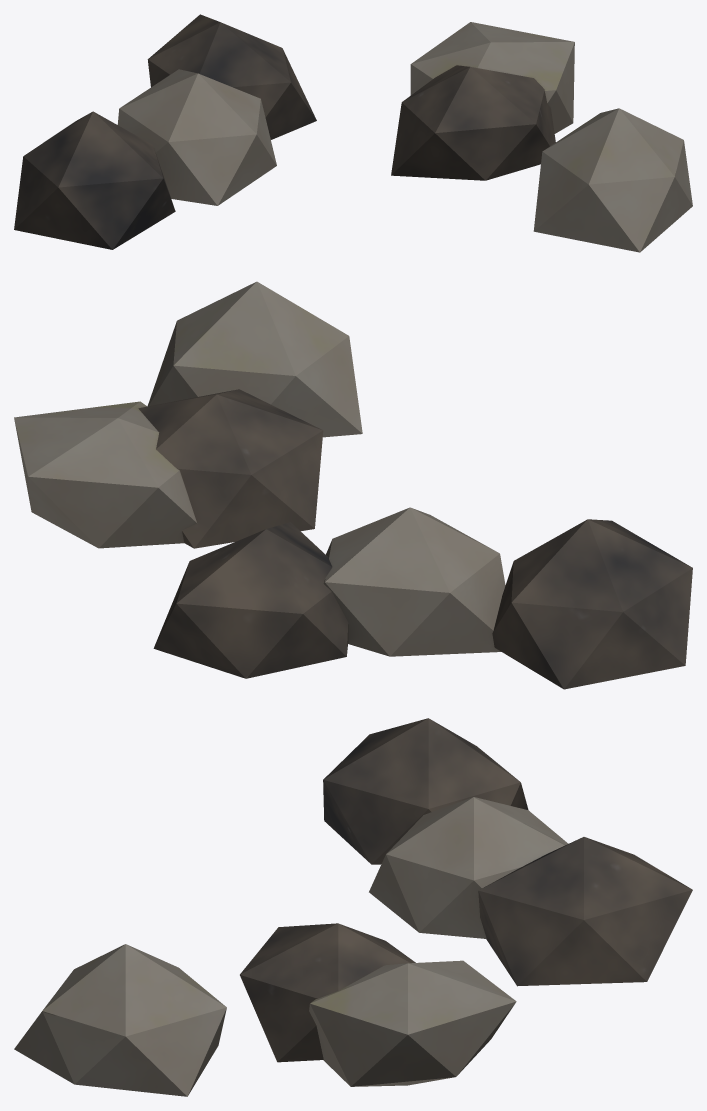
File: jazida_carvao.glb
3 views of the same model, one above another, from view 1: azimuth 30°, elevation 25°; view 2: azimuth 150°, elevation 25°; view 3: azimuth 270°, elevation 25° (orthographic). The views are drawn at different scales.
Visible parts, largest first — view 1: jazida_carvao; view 2: jazida_carvao; view 3: jazida_carvao.
Boxes of the visible parts, x1,y1,x2,y2 form: jazida_carvao: [14, 14, 692, 252]; jazida_carvao: [14, 281, 692, 689]; jazida_carvao: [14, 718, 692, 1096].
Bounding box in the file's own units: 0.54 × 0.1166 × 0.4909.
1 material, 1 textured.
